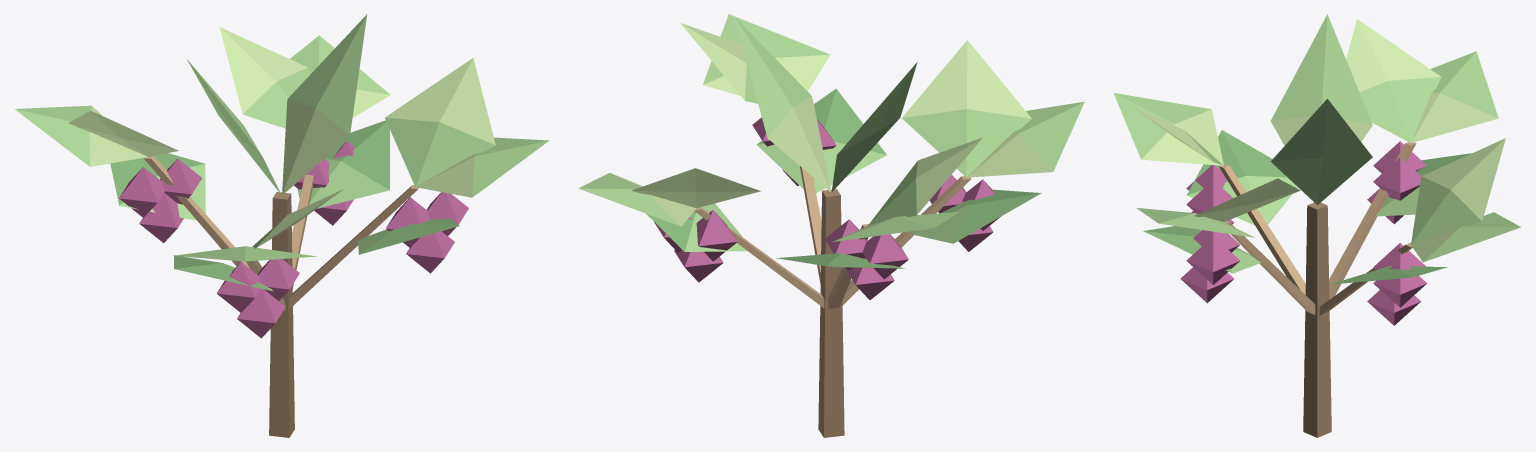
File: crop_berry_s3.glb
3 renders of one model, left to right at view 1: azimuth 30°, elevation 25°; view 2: azimuth 150°, elevation 25°; view 3: azimuth 270°, elevation 25°, orthographic. The views are drawn at different scales.
Parts seen in each view (by area): view 1: crop_berry_s3; view 2: crop_berry_s3; view 3: crop_berry_s3.
Boxes of the visible parts, x1,y1,x2,y2 form: crop_berry_s3: (15, 14, 549, 437); crop_berry_s3: (578, 14, 1084, 437); crop_berry_s3: (1113, 14, 1520, 437).
Bounding box in the file's own units: 0.5713 × 0.5804 × 0.5713.
